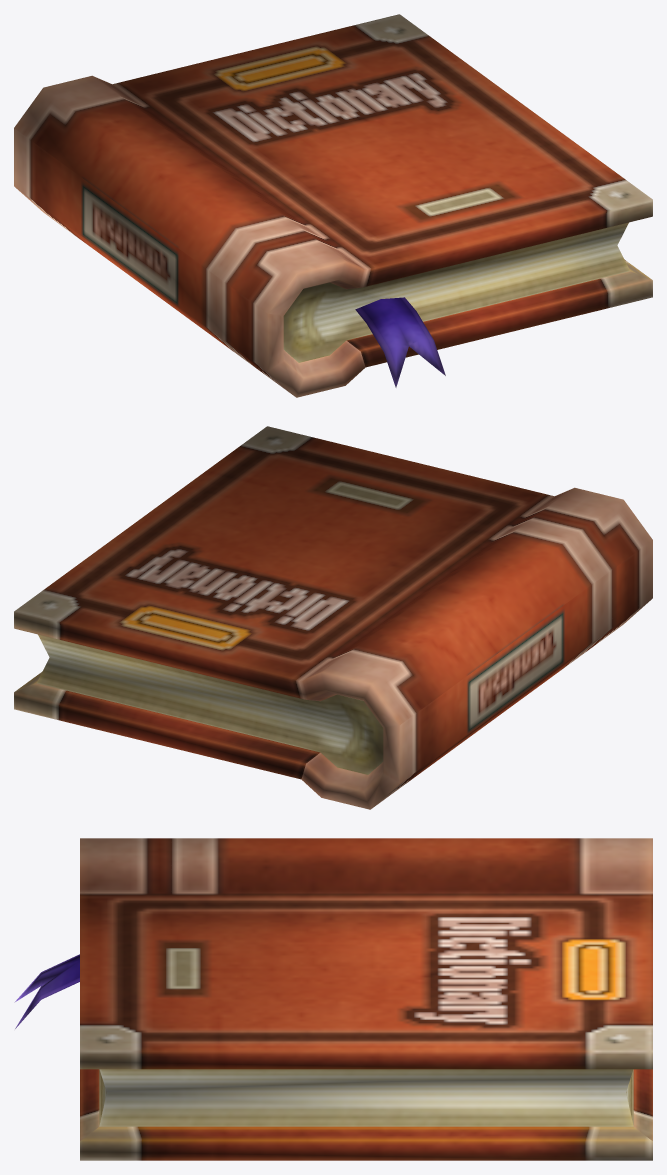
The model's file is a_SWAbook01A.glb.
3 renders of one model, top to bottom at view 1: azimuth 30°, elevation 25°; view 2: azimuth 150°, elevation 25°; view 3: azimuth 270°, elevation 25°, orthographic. The views are drawn at different scales.
Parts seen in each view (by area): view 1: a_SWAbook01A; view 2: a_SWAbook01A; view 3: a_SWAbook01A.
Part boxes in pixels (x1,y1,x2,y2): a_SWAbook01A: (14,14,652,397); a_SWAbook01A: (14,426,652,809); a_SWAbook01A: (14,838,652,1160).
Bounding box in the file's own units: 0.8777 × 0.2713 × 1.11.
1 material, 1 textured.
